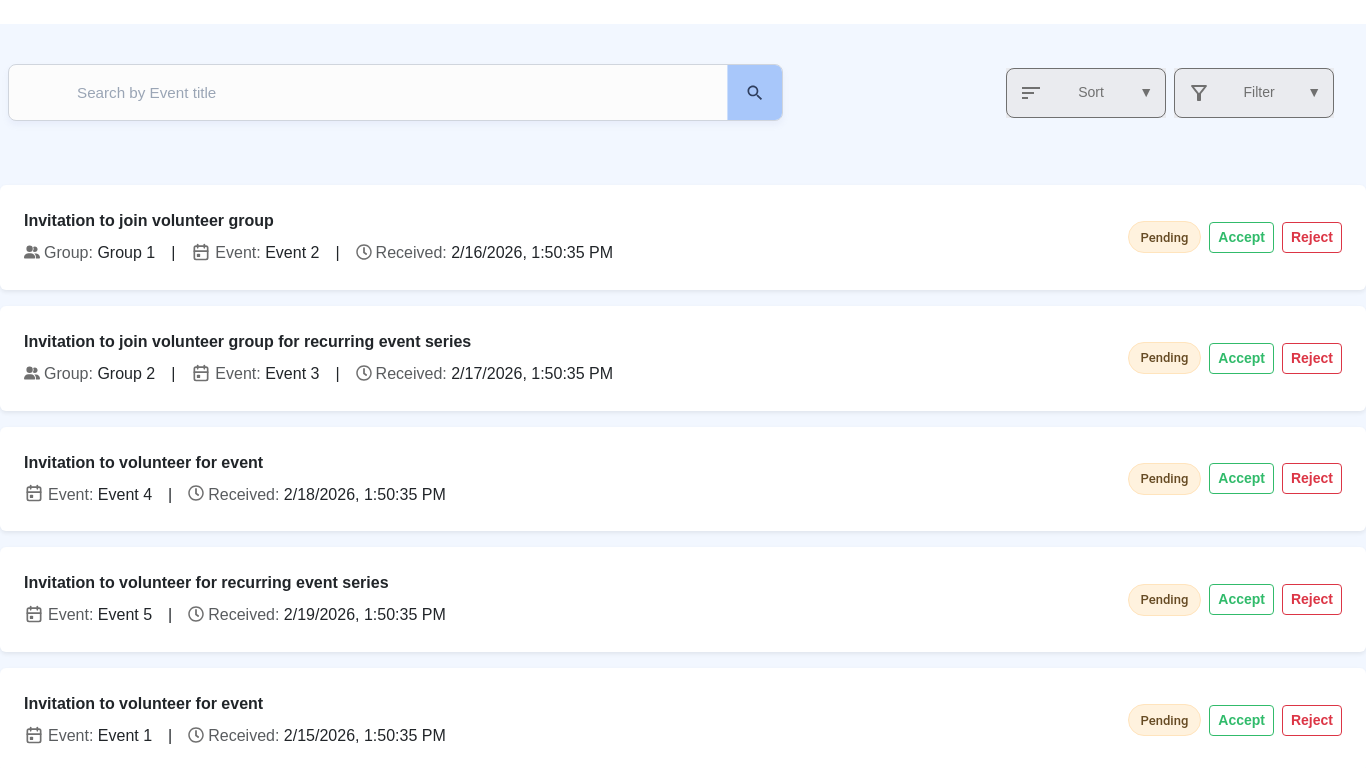
Test: Testing Invitations Screen › Search Invitations
Note: Search by name on press of search button
In the search field with test id "searchByInput": point(360, 92) x1=29 y1=84 x2=691 y2=101, type "1"
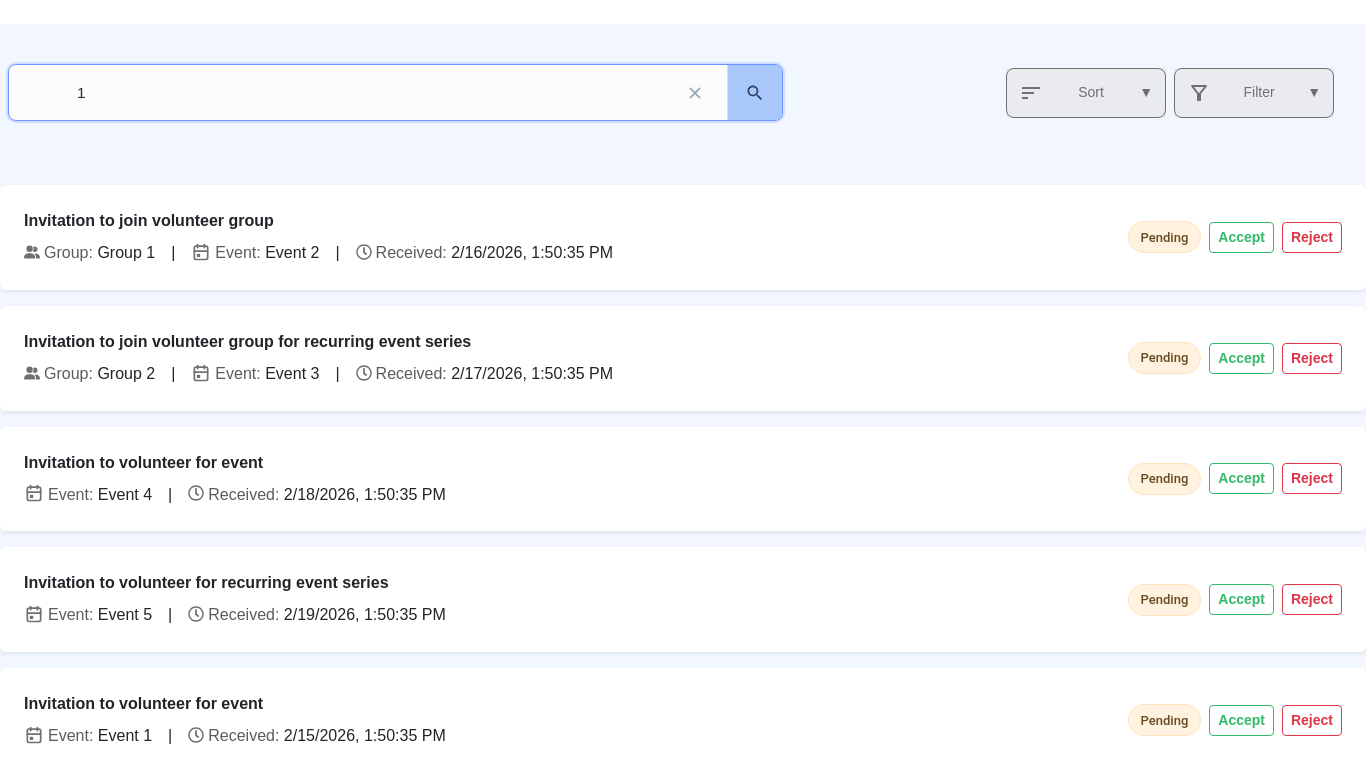
Click the button with test id "searchBtn": point(754, 92) x1=727 y1=65 x2=782 y2=120
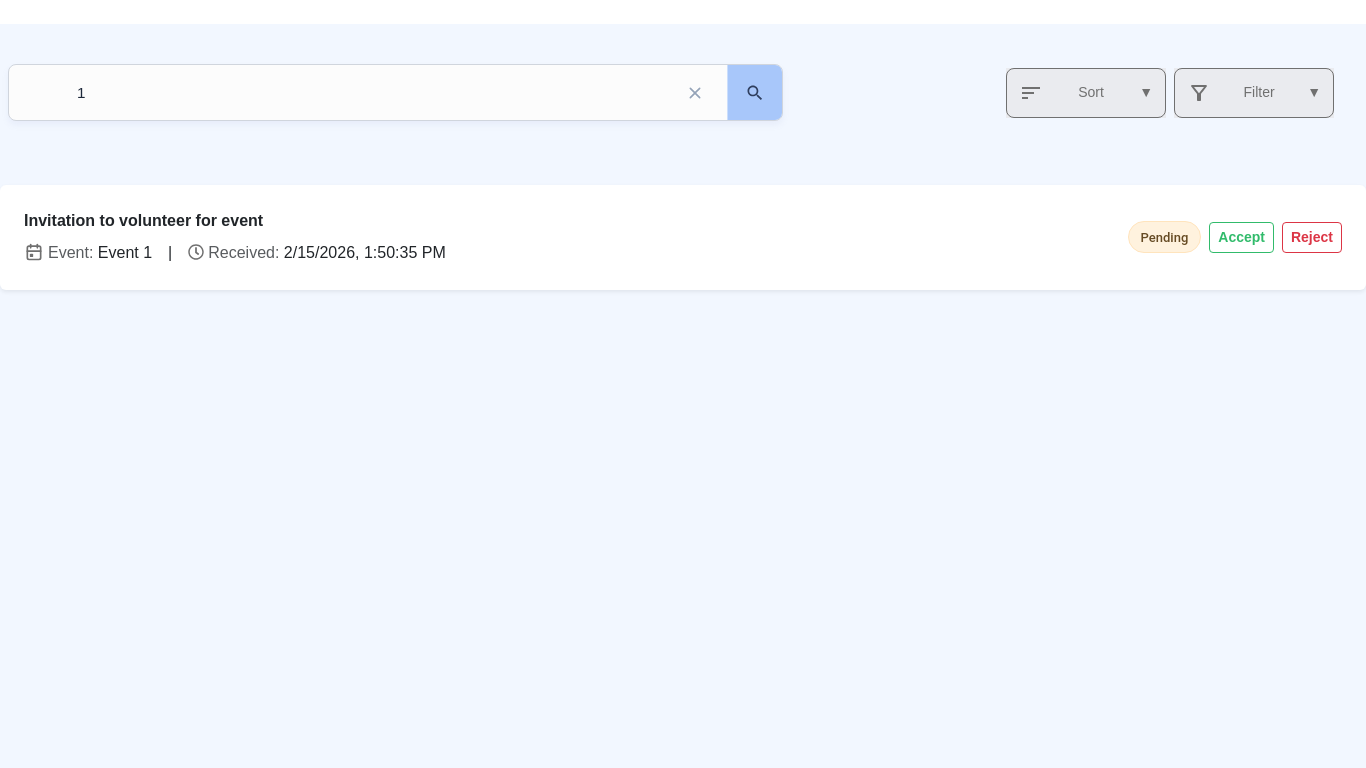
expect the text with test id "inviteSubject" reads "Invitation to volunteer for event": met, box x1=24 y1=212 x2=263 y2=229
expect the number of elements with test id "inviteSubject" is 1: met, box x1=24 y1=212 x2=263 y2=229
